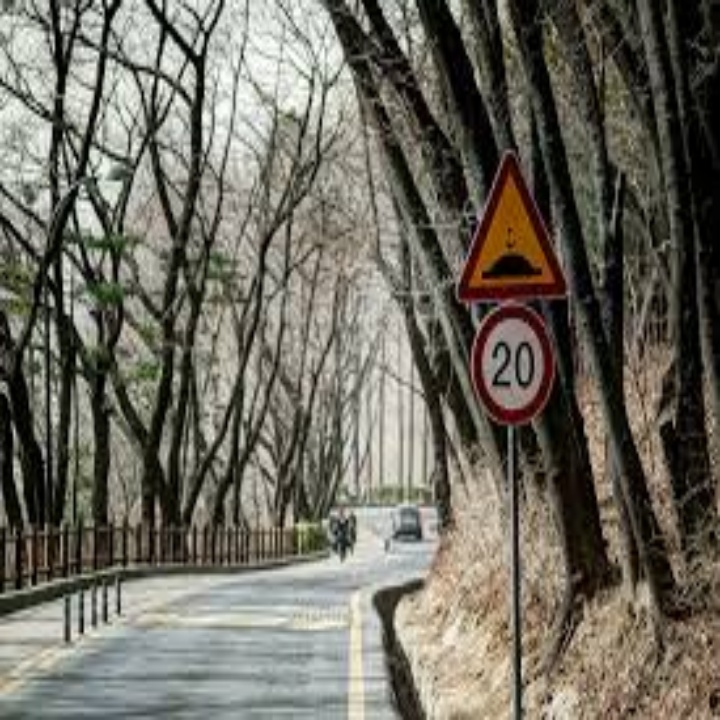bump: (463, 227, 559, 289)
